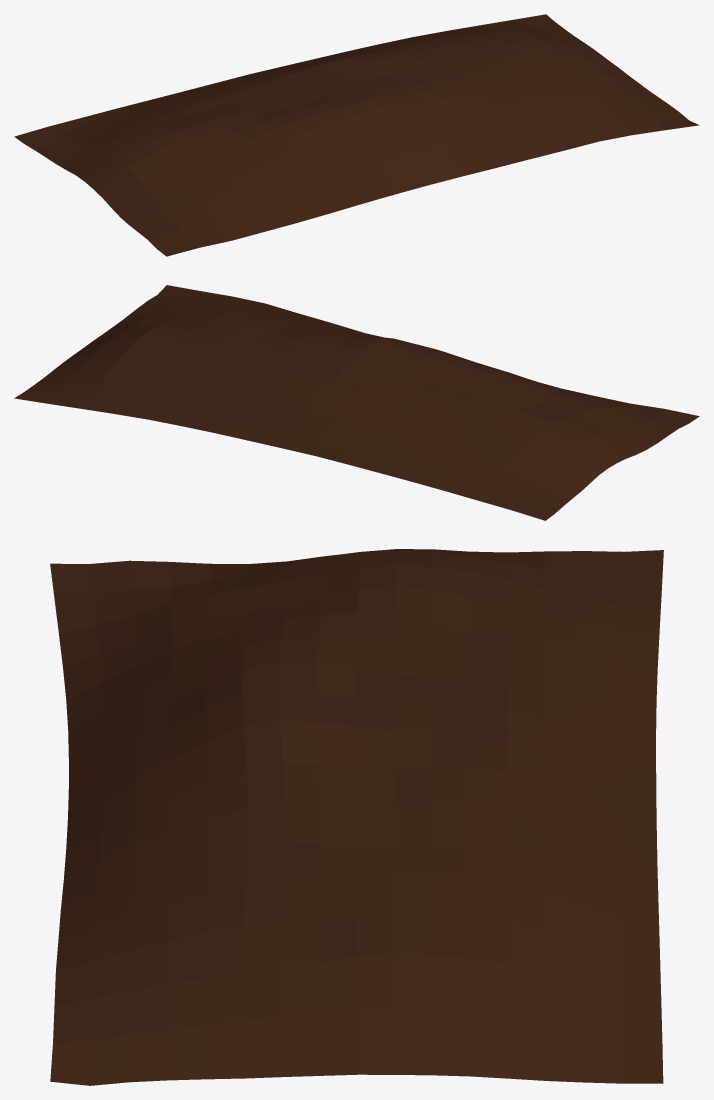
File: Dirt 3.fbx
3 views of the same model, one above another, from view 1: azimuth 30°, elevation 25°; view 2: azimuth 150°, elevation 25°; view 3: azimuth 270°, elevation 25° (orthographic). The views are drawn at different scales.
Visible parts, largest first — view 1: Plane.001; view 2: Plane.001; view 3: Plane.001.
Part boxes in pixels (<box>): Plane.001: <box>14,14,699,256</box>; Plane.001: <box>14,285,699,520</box>; Plane.001: <box>50,549,663,1085</box>.
Size of the model in its own units: 29.94 by 2.93 by 14.93.
